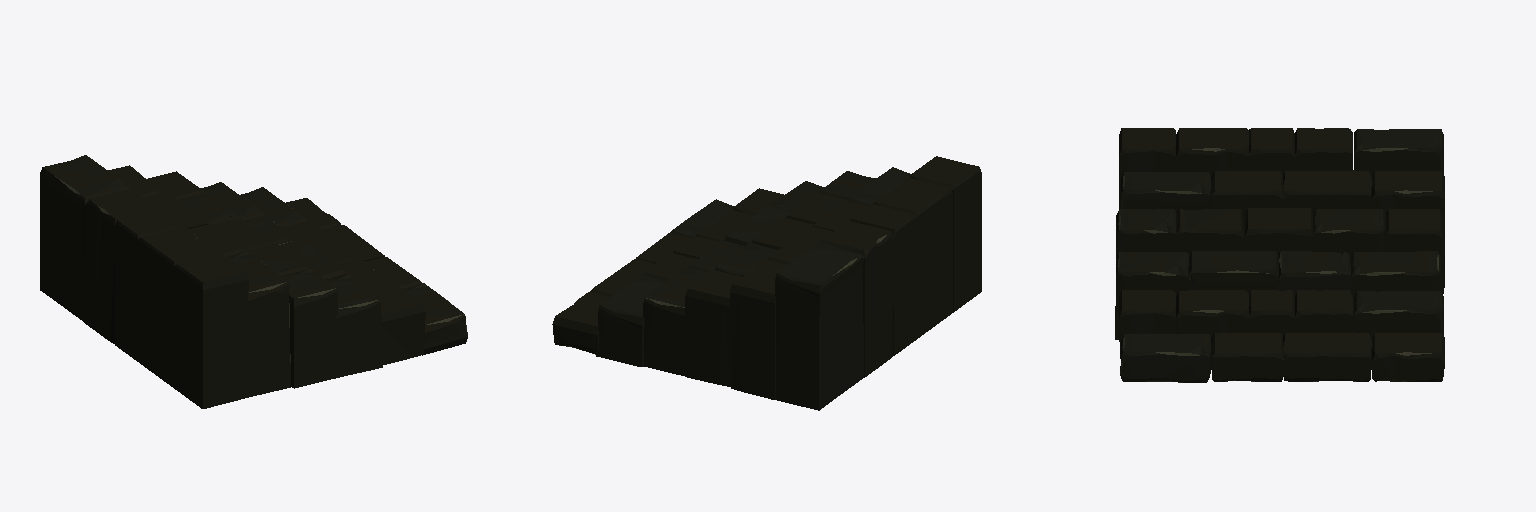
File: Stairs.obj
3 views of the same model, side by side, from view 1: azimuth 30°, elevation 25°; view 2: azimuth 150°, elevation 25°; view 3: azimuth 270°, elevation 25° (orthographic).
Parts seen in each view (by area): view 1: Stairs; view 2: Stairs; view 3: Stairs.
Boxes of the visible parts, <box> form: Stairs: <box>40,155,467,408</box>; Stairs: <box>552,156,981,410</box>; Stairs: <box>1115,128,1444,382</box>.
Size of the model in its own units: 2.02 by 0.9218 by 2.15.